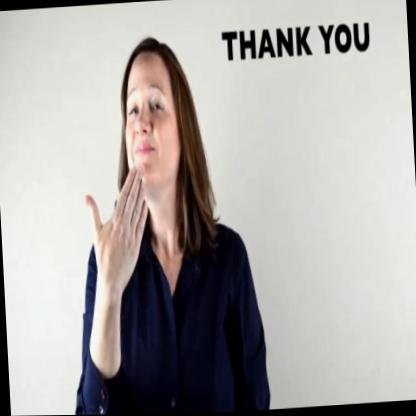ThankYou: (72, 22, 221, 296)
